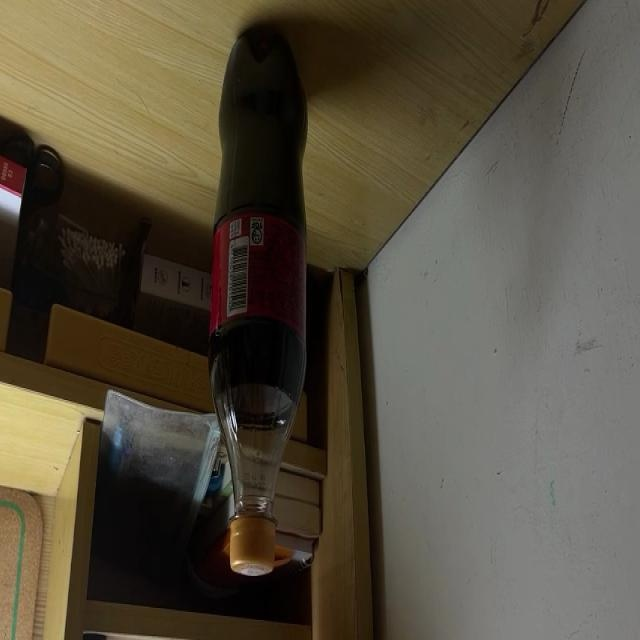Coca-Cola: (210, 25, 308, 576)
